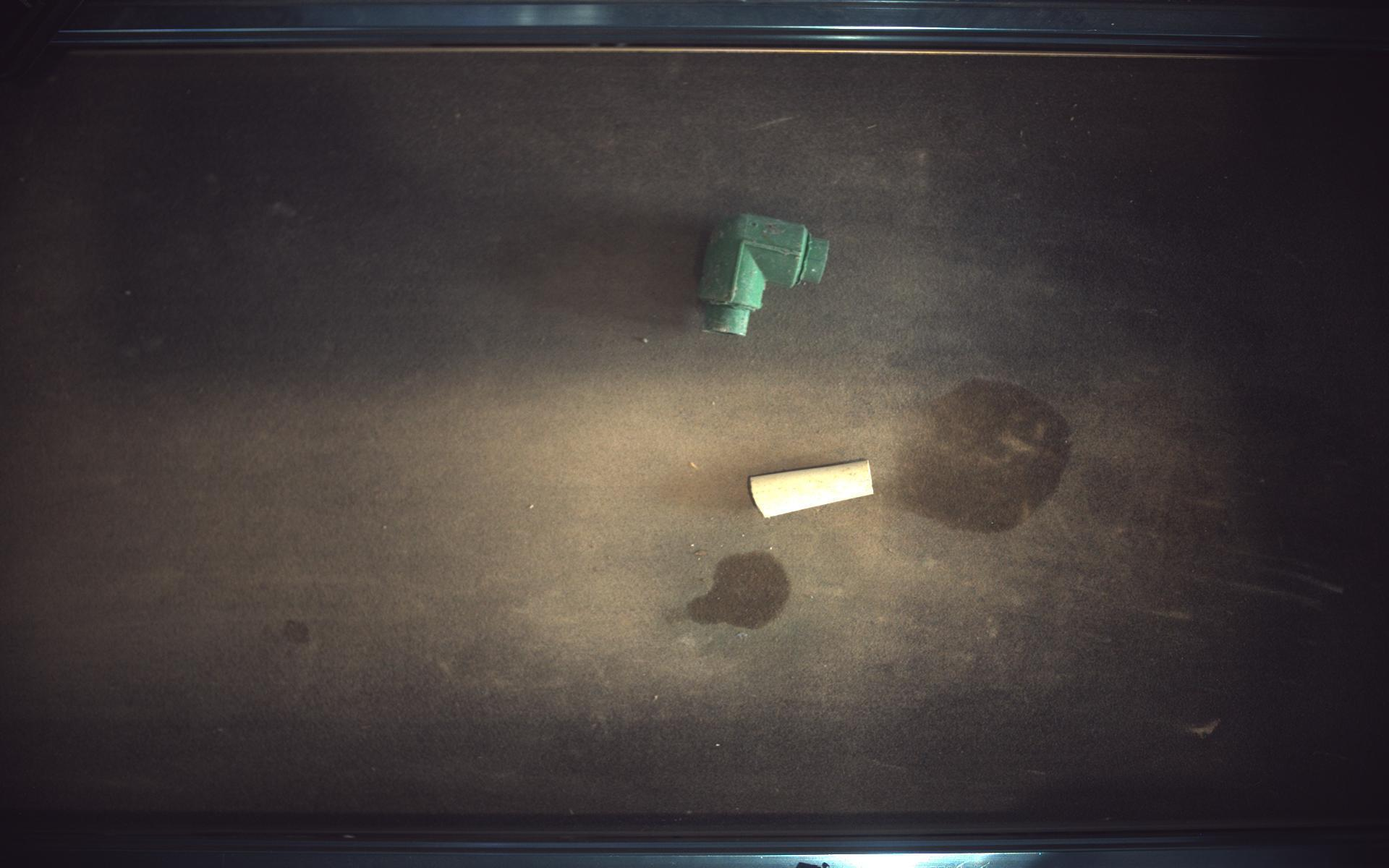pipes: (700, 213, 829, 336), (750, 460, 875, 518)
